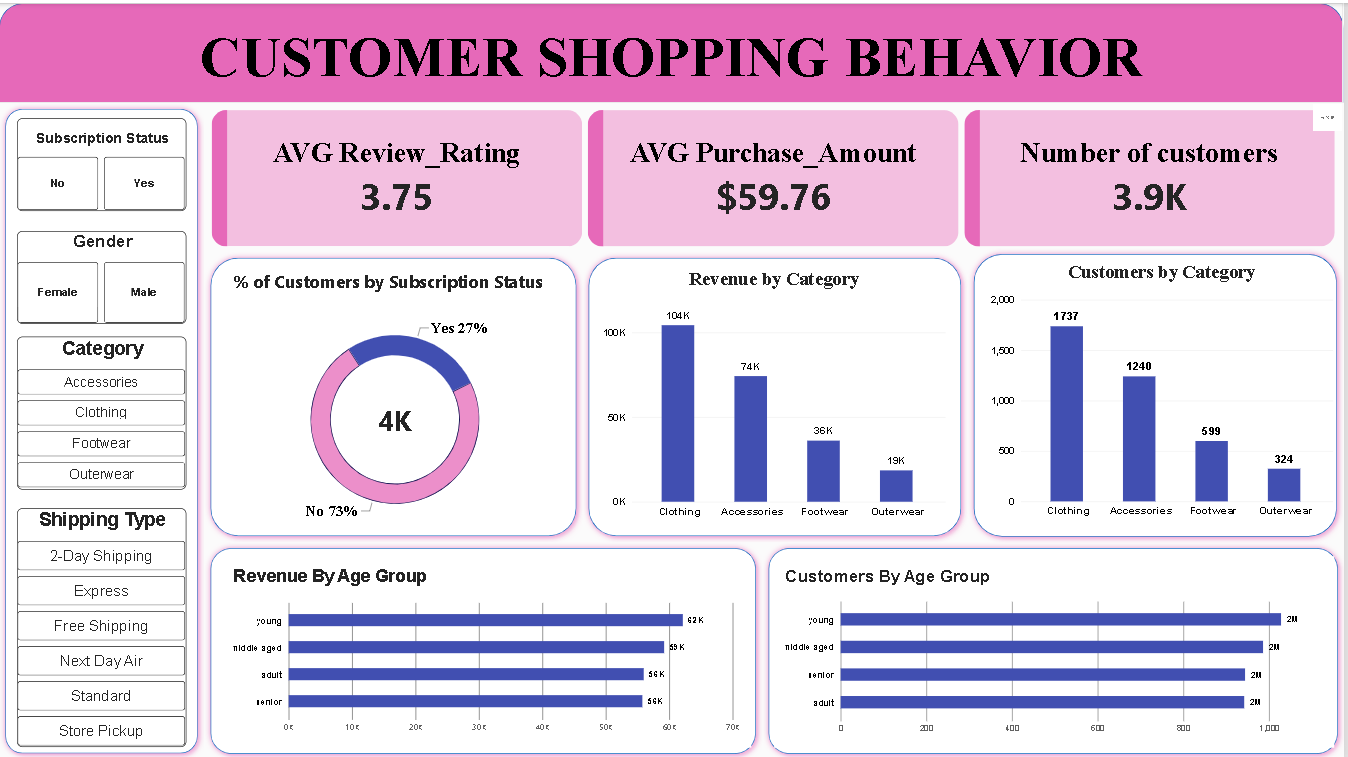

The page's visual inventory and layout, read from the dashboard file:
{"tool":"powerbi","page":{"name":"Page 1","canvas":[1920,1080],"ordinal":0},"visuals":[{"type":"cardVisual","fields":{"Data":["public customer.average review rating","public customer.average purchase amount","public customer.Number of customers"]},"box":[292.5,142.3,1626.2,216.4],"z":0},{"type":"shape","box":[0,0,1918.7,142.3],"z":1000},{"type":"shape","box":[292.5,354.9,540.1,415.3],"z":2000},{"type":"donutChart","title":"% of Customers by Subscription Status","fields":{"Category":["public customer.subscription_status"],"Y":["public customer.Number of customers"]},"box":[317.8,370.5,493.3,399.7],"z":3000},{"type":"shape","box":[1382.5,349,536.2,421.2],"z":4000},{"type":"shape","box":[832.6,354.9,549.9,415.3],"z":5000},{"type":"clusteredColumnChart","title":"Revenue by Category","fields":{"Category":["public customer.category"],"Y":["Sum(public customer.purchase_amount)"]},"box":[844.3,364.6,522.6,390],"z":6000},{"type":"clusteredColumnChart","title":"Customers  by Category","fields":{"Category":["public customer.category"],"Y":["Count(public customer.customer_id)"]},"box":[1398.1,354.9,522.6,399.7],"z":7000},{"type":"shape","box":[0,142.3,292.5,937.9],"z":8000},{"type":"advancedSlicerVisual","fields":{"Values":["public customer.subscription_status"]},"box":[25.3,163.8,241.8,132.6],"z":9000},{"type":"advancedSlicerVisual","fields":{"Values":["public customer.gender"]},"box":[25.3,325.6,241.8,132.6],"z":10000},{"type":"advancedSlicerVisual","fields":{"Values":["public customer.category"]},"box":[25.3,475.8,241.8,218.4],"z":11000},{"type":"advancedSlicerVisual","title":"Shipping Type","fields":{"Values":["public customer.shipping_type"]},"box":[25.3,721.5,241.8,341.2],"z":12000},{"type":"shape","box":[292.8,768.9,796.3,311.7],"z":14000},{"type":"shape","box":[1089.1,768.9,830.5,311.7],"z":15000},{"type":"clusteredBarChart","title":"Customers By Age Group","fields":{"Category":["public customer.age_group"],"Y":["Count(public customer.customer_id)"]},"box":[1105.6,789.7,799.5,273],"z":15500},{"type":"clusteredBarChart","title":"Revenue By Age Group","fields":{"Category":["public customer.age_group"],"Y":["Sum(public customer.purchase_amount)"]},"box":[317.8,789.7,754.6,273],"z":16000}]}

Visuals, with their boxes in screenshot pixels (x1, y1, x2, y2), scaled from the page's 1920x1080 canvas onto the 1348x757 screenshot:
cardVisual - public customer.average review rating x public customer.average purchase amount: (205, 100, 1347, 251)
shape: (0, 0, 1347, 100)
shape: (205, 249, 585, 540)
"% of Customers by Subscription Status" donutChart: (223, 260, 569, 540)
shape: (971, 245, 1347, 540)
shape: (585, 249, 971, 540)
"Revenue by Category" clusteredColumnChart: (593, 256, 960, 529)
"Customers  by Category" clusteredColumnChart: (982, 249, 1347, 529)
shape: (0, 100, 205, 756)
advancedSlicerVisual - public customer.subscription_status: (18, 115, 188, 208)
advancedSlicerVisual - public customer.gender: (18, 228, 188, 321)
advancedSlicerVisual - public customer.category: (18, 334, 188, 487)
"Shipping Type" advancedSlicerVisual: (18, 506, 188, 745)
shape: (206, 539, 765, 756)
shape: (765, 539, 1347, 756)
"Customers By Age Group" clusteredBarChart: (776, 554, 1338, 745)
"Revenue By Age Group" clusteredBarChart: (223, 554, 753, 745)
